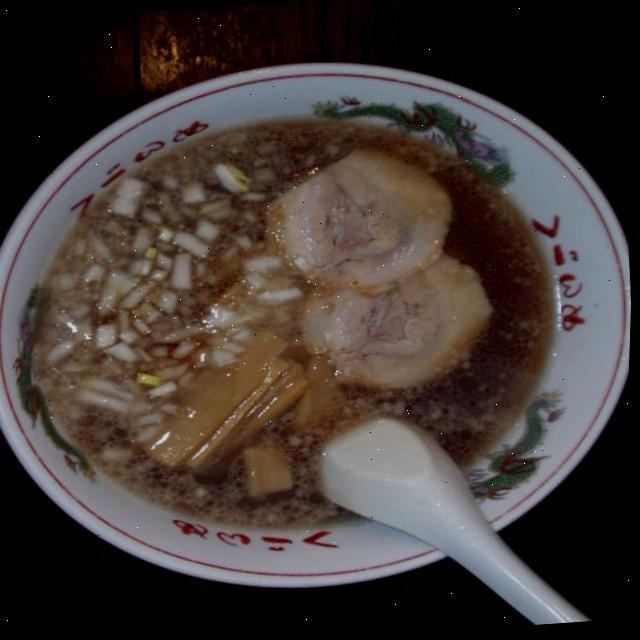面条主食: (0, 40, 639, 640)
